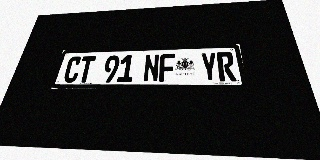1: (117, 55, 135, 82)
9: (102, 55, 120, 82)
C: (62, 56, 83, 83)
F: (159, 54, 175, 82)
N: (143, 54, 160, 82)
R: (216, 52, 237, 81)
T: (76, 56, 96, 83)
Y: (200, 52, 219, 82)
